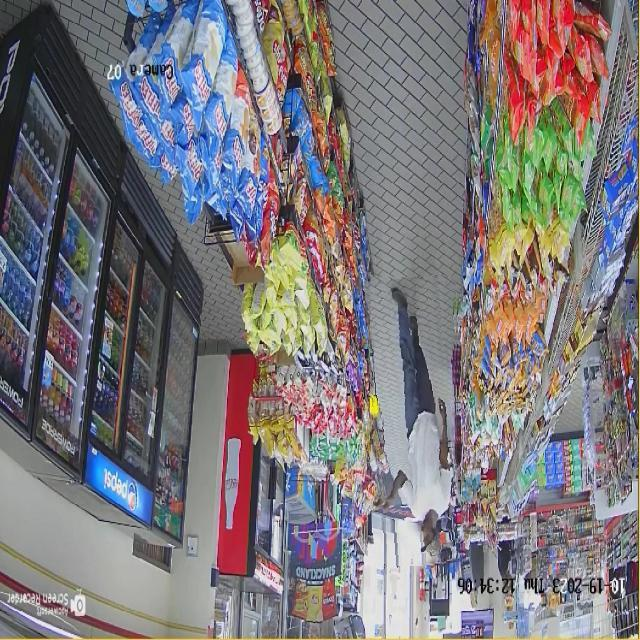Normal: (370, 276, 460, 566)
